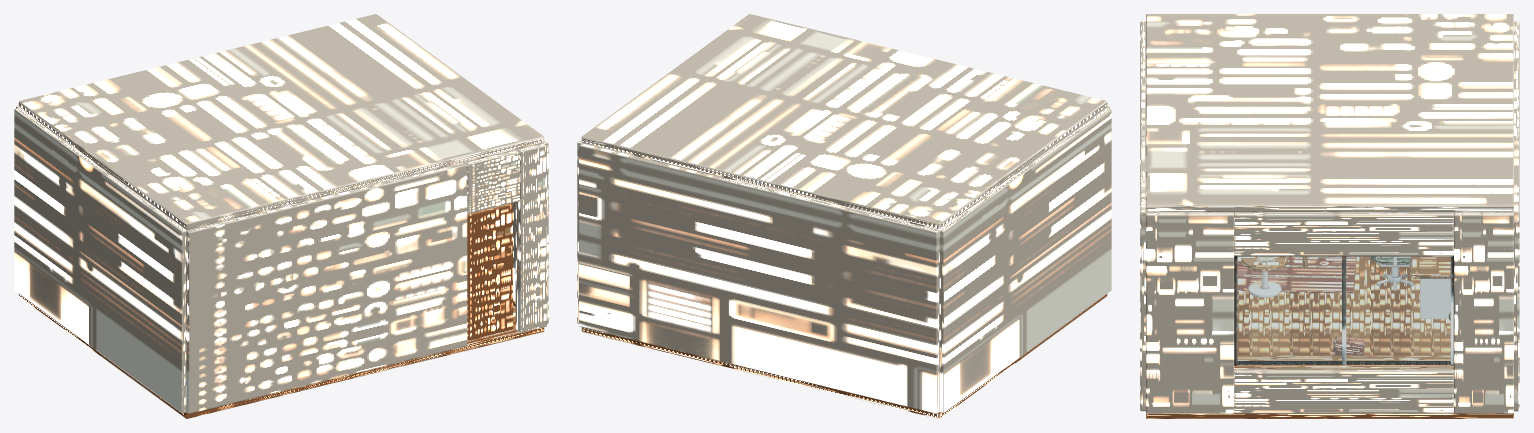
3 renders of one model, left to right at view 1: azimuth 30°, elevation 25°; view 2: azimuth 150°, elevation 25°; view 3: azimuth 270°, elevation 25°, orthographic. The views are drawn at different scales.
Visible parts, largest first — view 1: architecture.ceiling, architecture.wall.south-left, architecture.wall.west, architecture.door, architecture.wall.south-right, architecture.wall.south-door-header, architecture.floor-slab, architecture.wall.east-south; view 2: architecture.wall.north, architecture.ceiling, architecture.wall.west, architecture.floor-slab; view 3: architecture.ceiling, architecture.window-glass, architecture.wall.east-south, architecture.wall.east-north, architecture.wall.east-window-sill, architecture.wall.east-window-header, architecture.floor-slab, reading.rug, architecture.window-sill-oak, architecture.wall.north, architecture.floor-plank.11, architecture.floor-plank.10 (+20 smaller).
Part boxes in pixels (x1=…): architecture.ceiling: x1=18, y1=14, x2=544, y2=229; architecture.wall.south-left: x1=186, y1=162, x2=467, y2=413; architecture.wall.west: x1=14, y1=108, x2=186, y2=412; architecture.door: x1=467, y1=203, x2=512, y2=340; architecture.wall.south-right: x1=515, y1=143, x2=546, y2=332; architecture.wall.south-door-header: x1=464, y1=150, x2=519, y2=213; architecture.floor-slab: x1=18, y1=294, x2=544, y2=418; architecture.wall.east-south: x1=511, y1=139, x2=548, y2=323; architecture.wall.north: x1=579, y1=143, x2=939, y2=413; architecture.ceiling: x1=581, y1=14, x2=1107, y2=229; architecture.wall.west: x1=939, y1=108, x2=1111, y2=412; architecture.floor-slab: x1=581, y1=294, x2=1107, y2=418; architecture.ceiling: x1=1146, y1=14, x2=1513, y2=212; architecture.window-glass: x1=1237, y1=256, x2=1451, y2=368; architecture.wall.east-south: x1=1146, y1=212, x2=1234, y2=413; architecture.wall.east-north: x1=1454, y1=212, x2=1513, y2=413; architecture.wall.east-window-sill: x1=1234, y1=369, x2=1453, y2=413; architecture.wall.east-window-header: x1=1234, y1=212, x2=1453, y2=256; architecture.floor-slab: x1=1146, y1=259, x2=1513, y2=418; reading.rug: x1=1237, y1=256, x2=1356, y2=293; architecture.window-sill-oak: x1=1234, y1=355, x2=1453, y2=369; architecture.wall.north: x1=1513, y1=21, x2=1519, y2=411; architecture.floor-plank.11: x1=1371, y1=260, x2=1390, y2=355; architecture.floor-plank.10: x1=1350, y1=256, x2=1369, y2=355.
Bounding box in the file's own units: 6.56 × 3.34 × 5.36.
16 materials, 3 textured.
